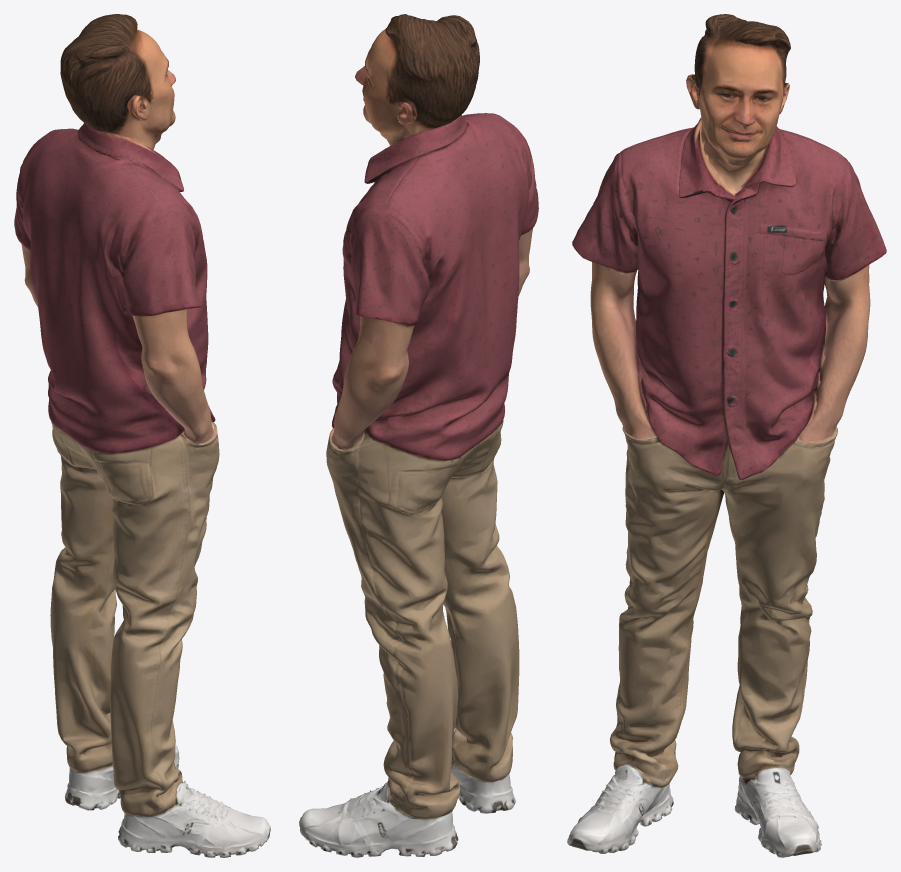
The model's file is brandon-pt-davis-3d-model.glb.
The picture shows the model from 3 angles, left to right: view 1: azimuth 30°, elevation 25°; view 2: azimuth 150°, elevation 25°; view 3: azimuth 270°, elevation 25°; orthographic projection. The views are drawn at different scales.
Parts seen in each view (by area): view 1: tripo_node_23b4b836-c72d-4652-a7bf-cc8cd66dd74e; view 2: tripo_node_23b4b836-c72d-4652-a7bf-cc8cd66dd74e; view 3: tripo_node_23b4b836-c72d-4652-a7bf-cc8cd66dd74e.
Part boxes in pixels (x1=…): tripo_node_23b4b836-c72d-4652-a7bf-cc8cd66dd74e: x1=14, y1=14, x2=270, y2=857; tripo_node_23b4b836-c72d-4652-a7bf-cc8cd66dd74e: x1=299, y1=14, x2=538, y2=857; tripo_node_23b4b836-c72d-4652-a7bf-cc8cd66dd74e: x1=567, y1=14, x2=886, y2=857.
Size of the model in its own units: 0.1977 by 0.9772 by 0.3528.
1 material, 1 textured.
